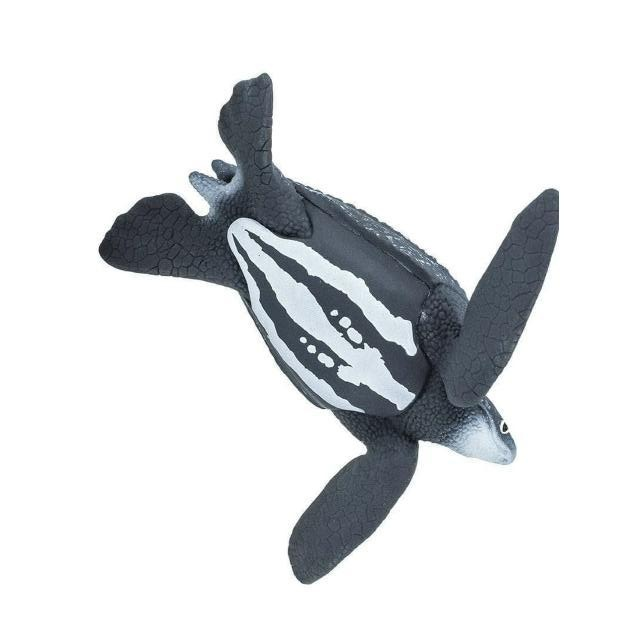turtle: (98, 74, 558, 586)
